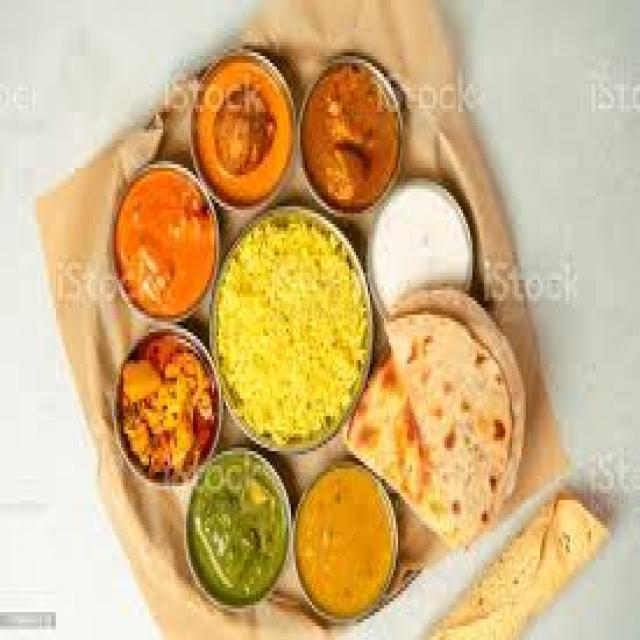curd: (362, 167, 483, 313)
dal: (215, 214, 364, 446), (295, 459, 408, 628)
roti: (388, 322, 527, 532)
sweet: (302, 63, 402, 208), (124, 331, 220, 467)
veg-fry: (115, 160, 217, 319)
